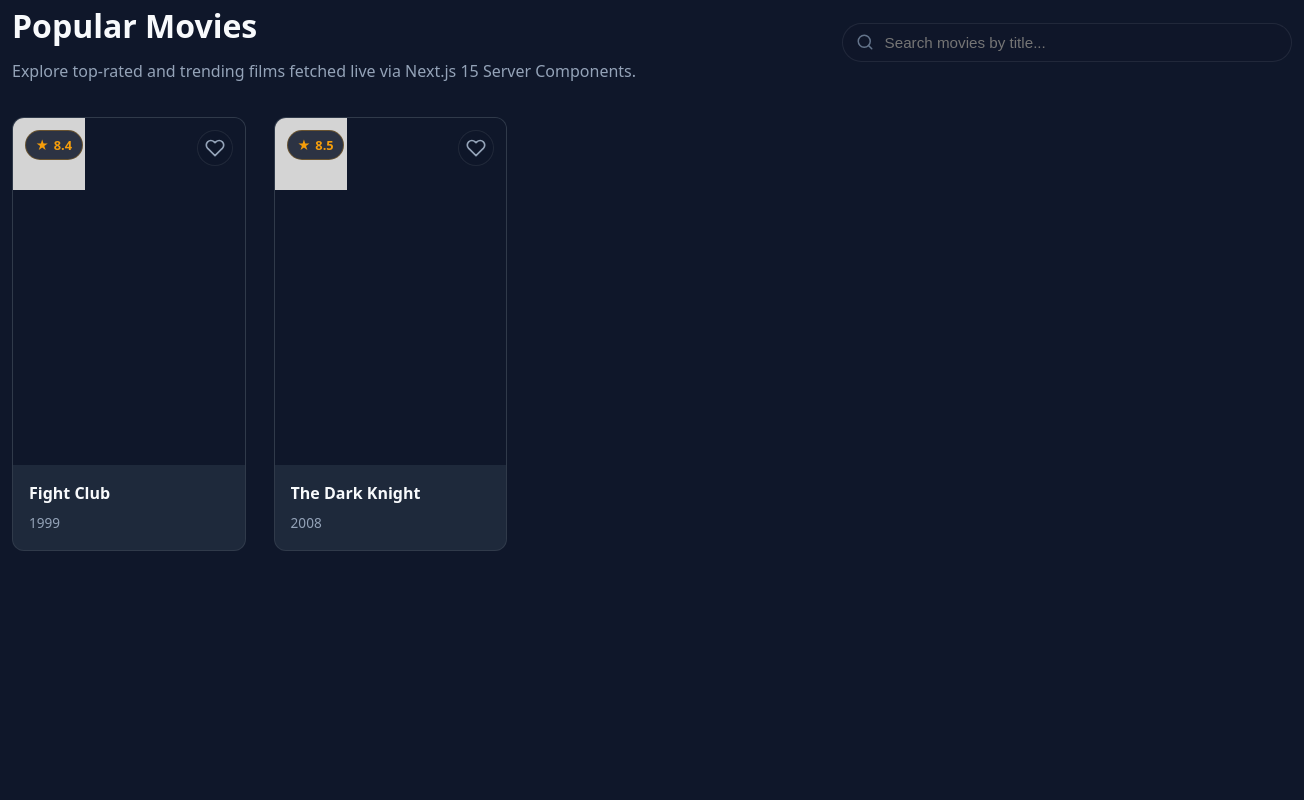
Test: MovieExplorer Async Component Test › displays EmptyState when mock API returns no results
The width and height of the screenshot is (1304, 800).
Type "NonexistentMovie123" into the search field.
click(1067, 42); type("NonexistentMovie123")  # box 842,22 -> 1292,62
Wait 450 ms
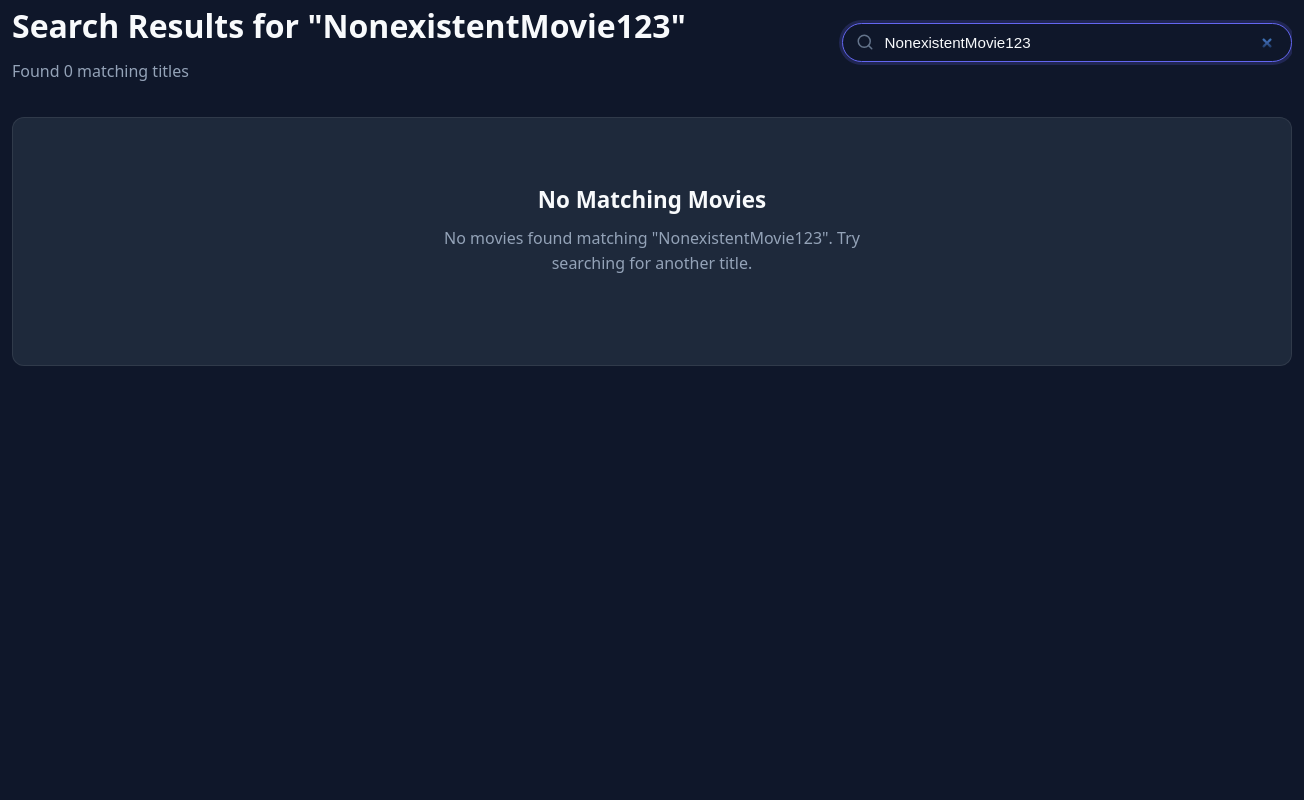
expect the heading "No Matching Movies" is shown: met, box 538,182 -> 766,218
expect the text "No movies found matching \"NonexistentMovie123\". Try searching for another title." is shown: met, box 427,226 -> 877,277
